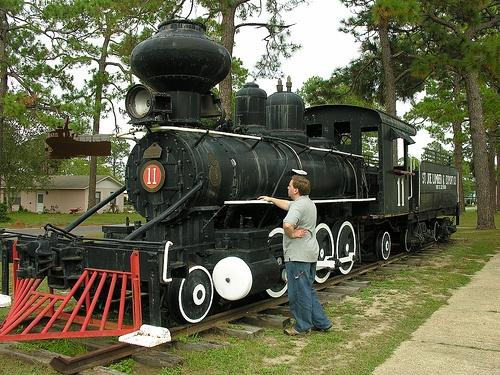tampered: (46, 117, 111, 159)
